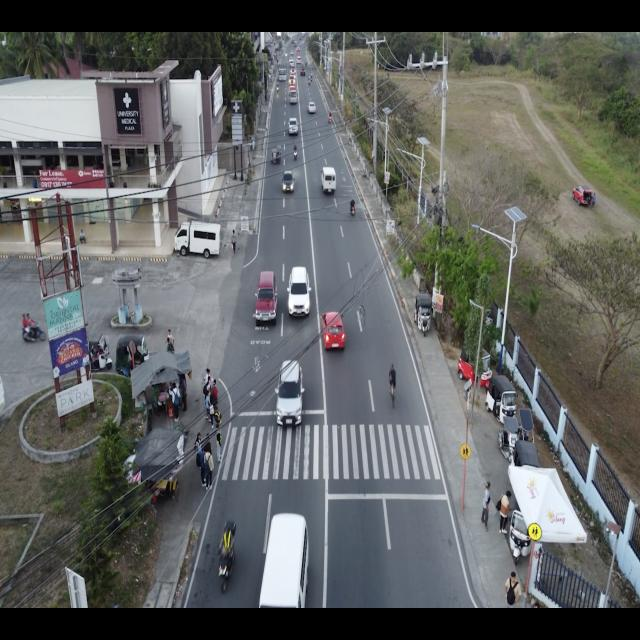bicycle: (388, 362, 398, 410)
car: (256, 510, 310, 610), (274, 359, 306, 429), (174, 220, 221, 260), (286, 265, 313, 318), (254, 270, 278, 328), (320, 310, 346, 350), (320, 166, 337, 195), (572, 185, 593, 207), (280, 170, 295, 194), (287, 116, 299, 137), (307, 101, 316, 114), (288, 74, 296, 86), (290, 64, 296, 74), (300, 68, 306, 76), (296, 56, 302, 64), (289, 60, 295, 68), (290, 50, 294, 55)
motorcycle: (495, 408, 536, 461), (458, 338, 492, 391), (485, 371, 518, 423), (216, 518, 236, 595), (509, 498, 532, 564), (414, 290, 432, 336), (20, 312, 46, 343), (270, 144, 282, 164), (348, 196, 358, 217), (293, 142, 298, 160), (328, 111, 332, 124), (307, 75, 311, 86), (276, 81, 280, 92), (311, 72, 313, 82), (305, 60, 307, 68)
person: (494, 489, 514, 536), (503, 571, 522, 608), (480, 480, 491, 534), (168, 380, 181, 424), (203, 443, 214, 492), (196, 444, 207, 487), (215, 425, 224, 464), (208, 394, 218, 429), (194, 432, 203, 470), (214, 404, 223, 440), (210, 378, 220, 408), (203, 432, 212, 463), (203, 376, 212, 406), (204, 390, 212, 421), (203, 367, 213, 390), (230, 228, 238, 256), (164, 329, 174, 347), (166, 337, 175, 355), (79, 229, 87, 245)
truck: (288, 86, 298, 106), (278, 67, 287, 82)
